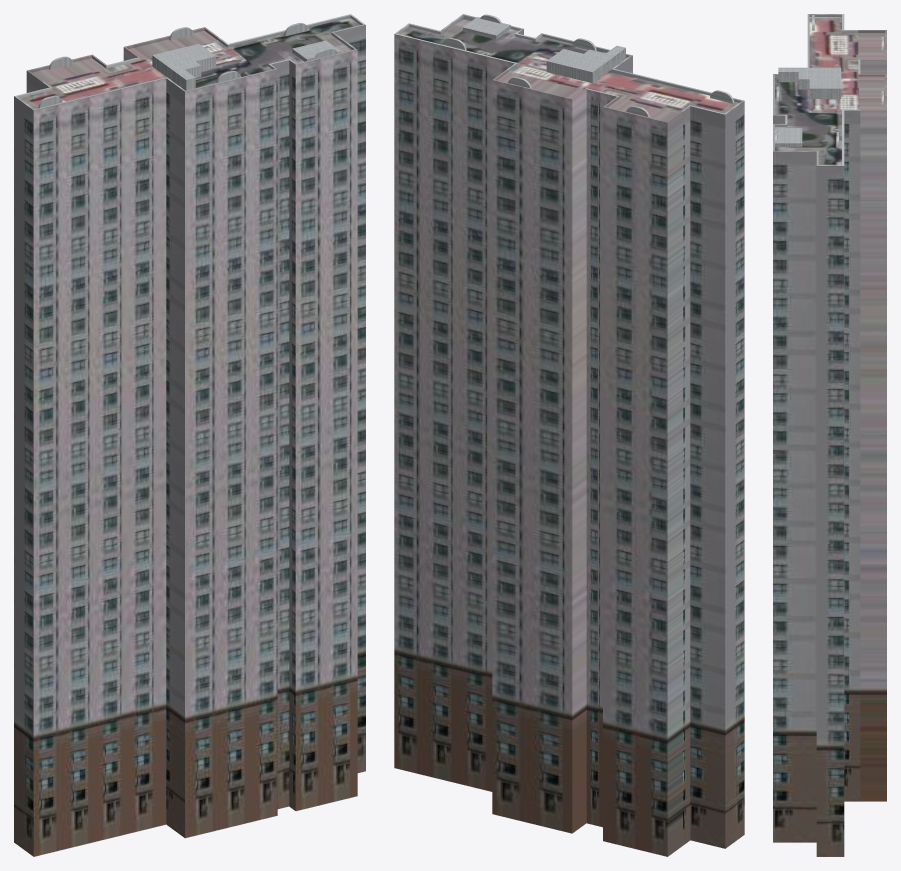
The picture shows the model from 3 angles, left to right: view 1: azimuth 30°, elevation 25°; view 2: azimuth 150°, elevation 25°; view 3: azimuth 270°, elevation 25°; orthographic projection. The views are drawn at different scales.
Parts seen in each view (by area): view 1: HN451_Vinhomes_D_capitale_2.001; view 2: HN451_Vinhomes_D_capitale_2.001; view 3: HN451_Vinhomes_D_capitale_2.001.
Part boxes in pixels (left/top/right/bottom): HN451_Vinhomes_D_capitale_2.001: left=14, top=14, right=365, bottom=856; HN451_Vinhomes_D_capitale_2.001: left=394, top=14, right=744, bottom=856; HN451_Vinhomes_D_capitale_2.001: left=773, top=14, right=886, bottom=856.
Bounding box in the file's own units: 81.81 × 175 × 25.87.
Materials: 1 (1 with a texture image).
